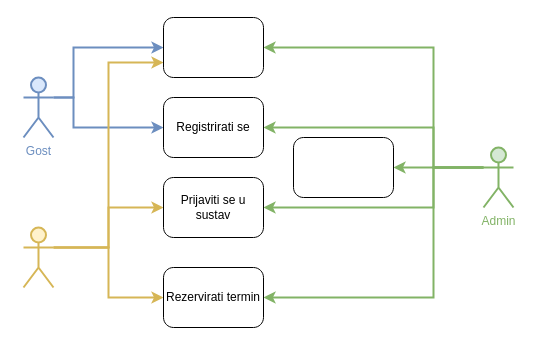
This 533x345 diagram has some shape labels left out. Each missing label, with the centre of its shape:
"Korisnik" belongs at point 38,257.
"Pregledati rezervacije" belongs at point 343,167.
"Pregledati web stranicu" belongs at point 213,47.
